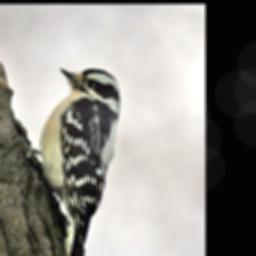Woodpecker: (12, 63, 123, 256)
